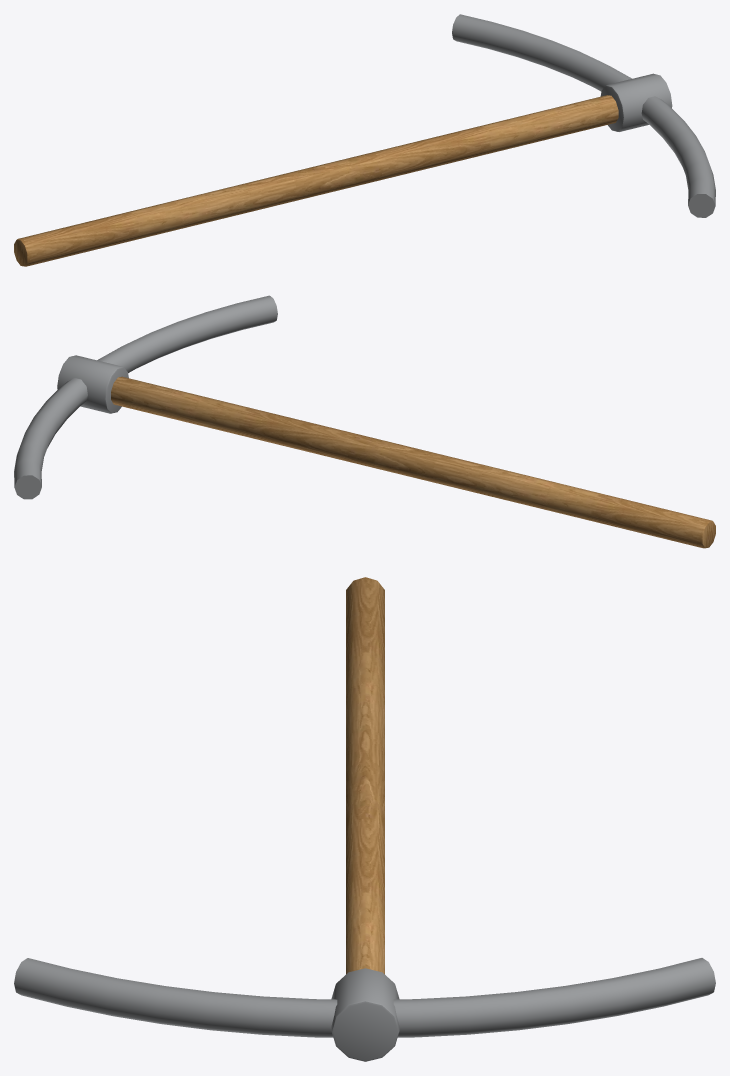
File: EQP-MAO-005_anim.glb
The picture shows the model from 3 angles, top to bottom: view 1: azimuth 30°, elevation 25°; view 2: azimuth 150°, elevation 25°; view 3: azimuth 270°, elevation 25°; orthographic projection. The views are drawn at different scales.
Visible parts, largest first — view 1: EQP-MAO-005_anim0; view 2: EQP-MAO-005_anim0; view 3: EQP-MAO-005_anim0.
Boxes of the visible parts, x1,y1,x2,y2 form: EQP-MAO-005_anim0: (14,14,715,266); EQP-MAO-005_anim0: (14,295,715,548); EQP-MAO-005_anim0: (14,577,715,1061).
Bounding box in the file's own units: 0.91 × 0.06 × 0.6176.
2 materials, 1 textured.
